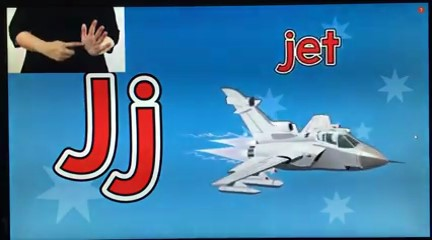J: (42, 13, 117, 65)
